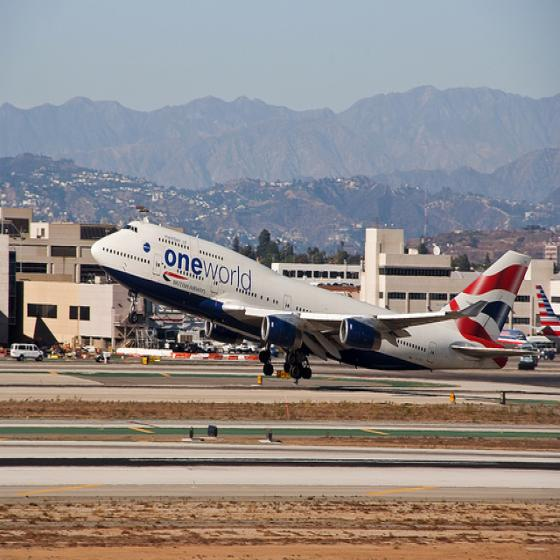airplane: (89, 218, 541, 385), (523, 285, 560, 337)
car: (236, 343, 247, 352)
truck: (10, 344, 44, 362)
